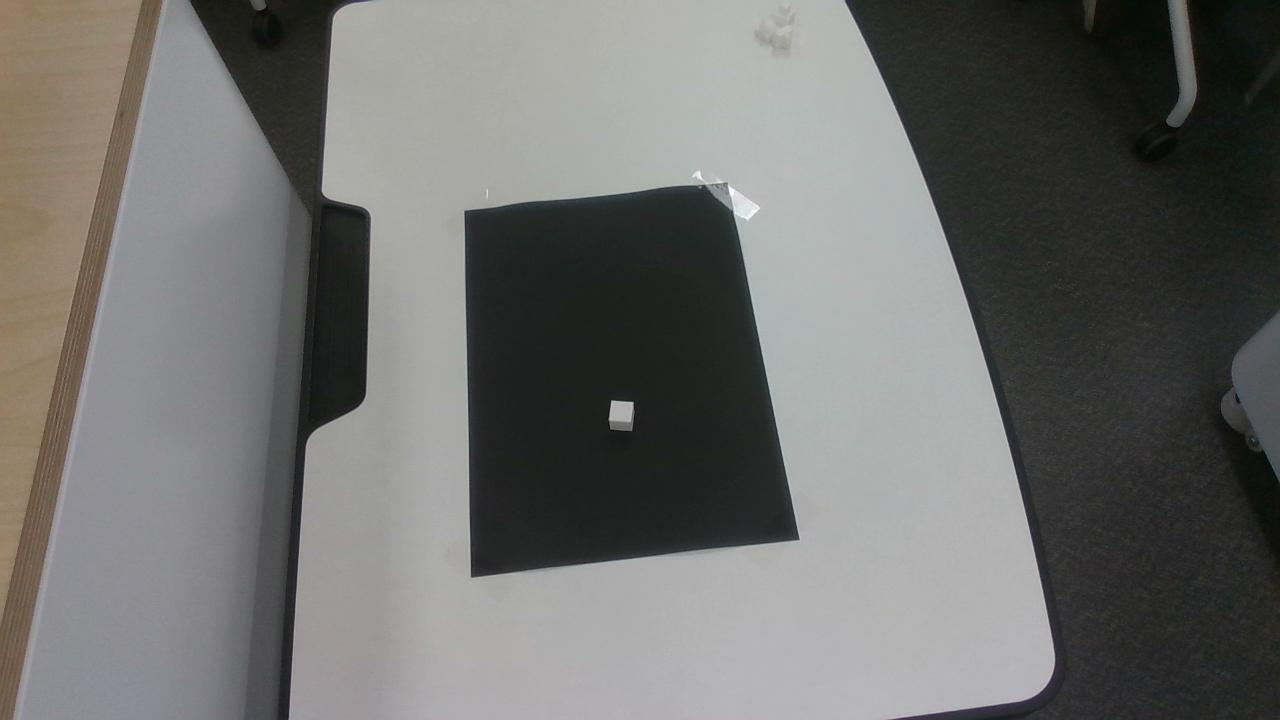cube: (609, 399, 634, 431)
